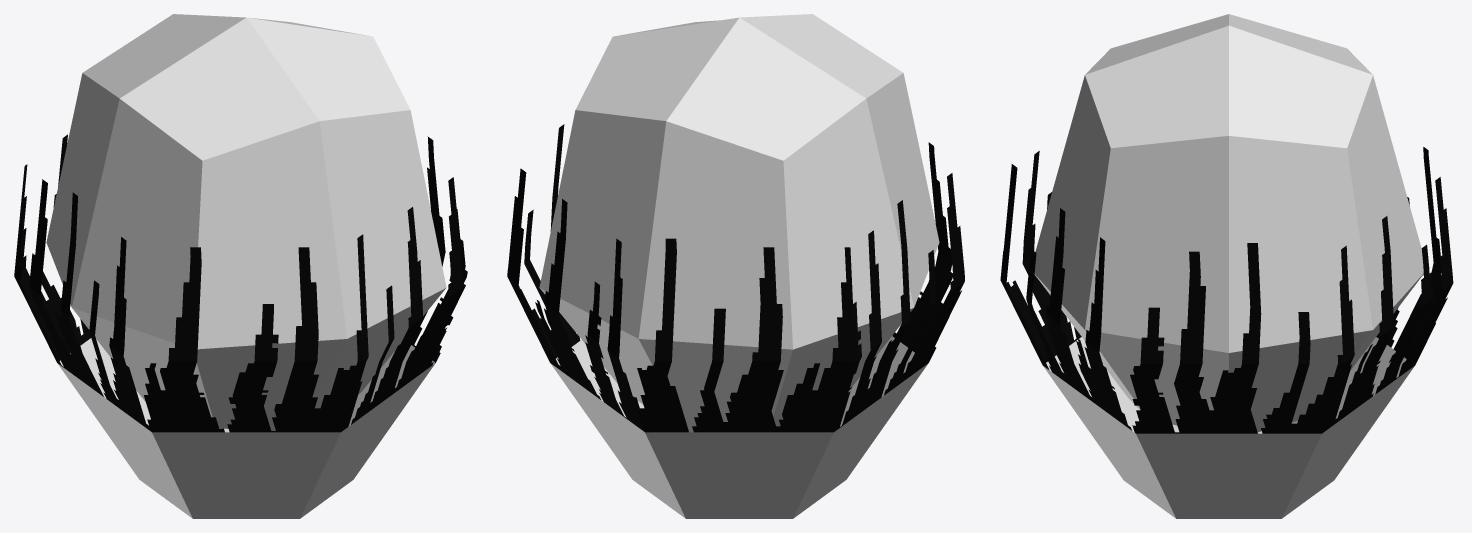
Rendered from lightEgg.fbx.
3 views of the same model, side by side, from view 1: azimuth 30°, elevation 25°; view 2: azimuth 150°, elevation 25°; view 3: azimuth 270°, elevation 25° (orthographic).
Parts seen in each view (by area): view 1: lightEgg.001; view 2: lightEgg.001; view 3: lightEgg.001.
Part boxes in pixels (x1,y1,x2,y2): lightEgg.001: (14, 14, 467, 518); lightEgg.001: (507, 14, 964, 518); lightEgg.001: (1000, 14, 1453, 518).
Size of the model in its own units: 0.9608 by 1.21 by 1.11.
